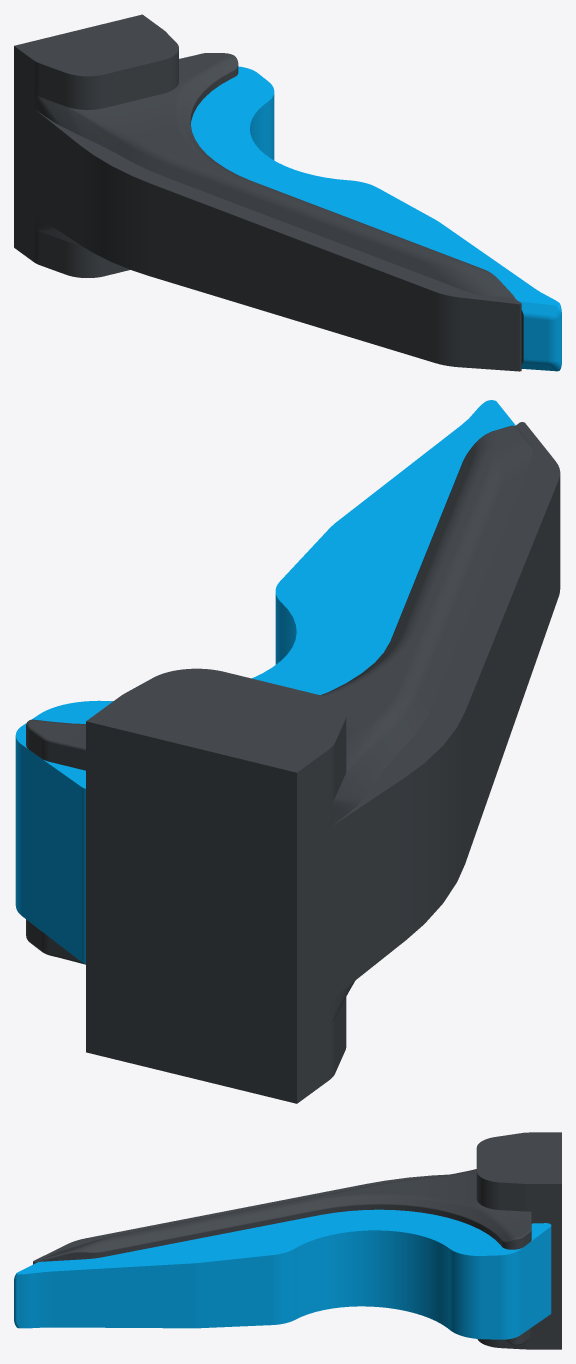
The model's file is gripper_left.obj.
3 renders of one model, top to bottom at view 1: azimuth 30°, elevation 25°; view 2: azimuth 150°, elevation 25°; view 3: azimuth 270°, elevation 25°, orthographic. The views are drawn at different scales.
Visible parts, largest first — view 1: Small C-Bracket__Small C-Bracket; view 2: Small C-Bracket__Small C-Bracket; view 3: Small C-Bracket__Small C-Bracket.
Part boxes in pixels (x1=…): Small C-Bracket__Small C-Bracket: x1=14, y1=14, x2=561, y2=371; Small C-Bracket__Small C-Bracket: x1=15, y1=400, x2=560, y2=1103; Small C-Bracket__Small C-Bracket: x1=14, y1=1132, x2=561, y2=1349.
Size of the model in its own units: 0.0335 by 0.03 by 0.09.
